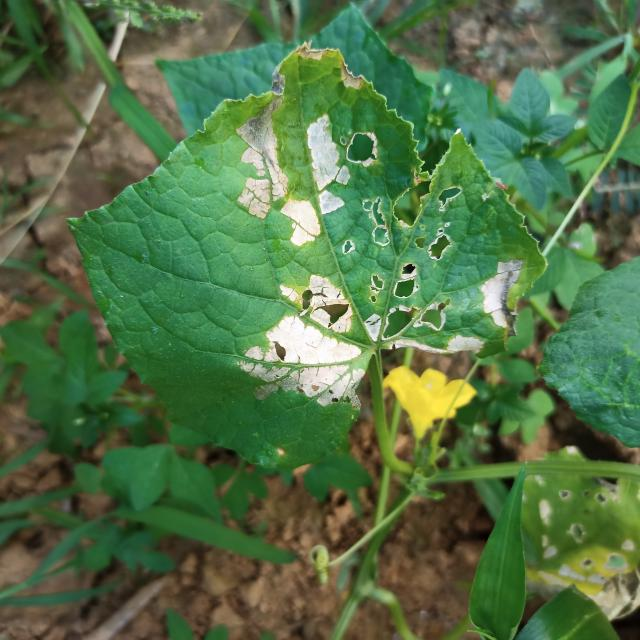disease_cucumber: (239, 45, 467, 264), (249, 255, 520, 415)
